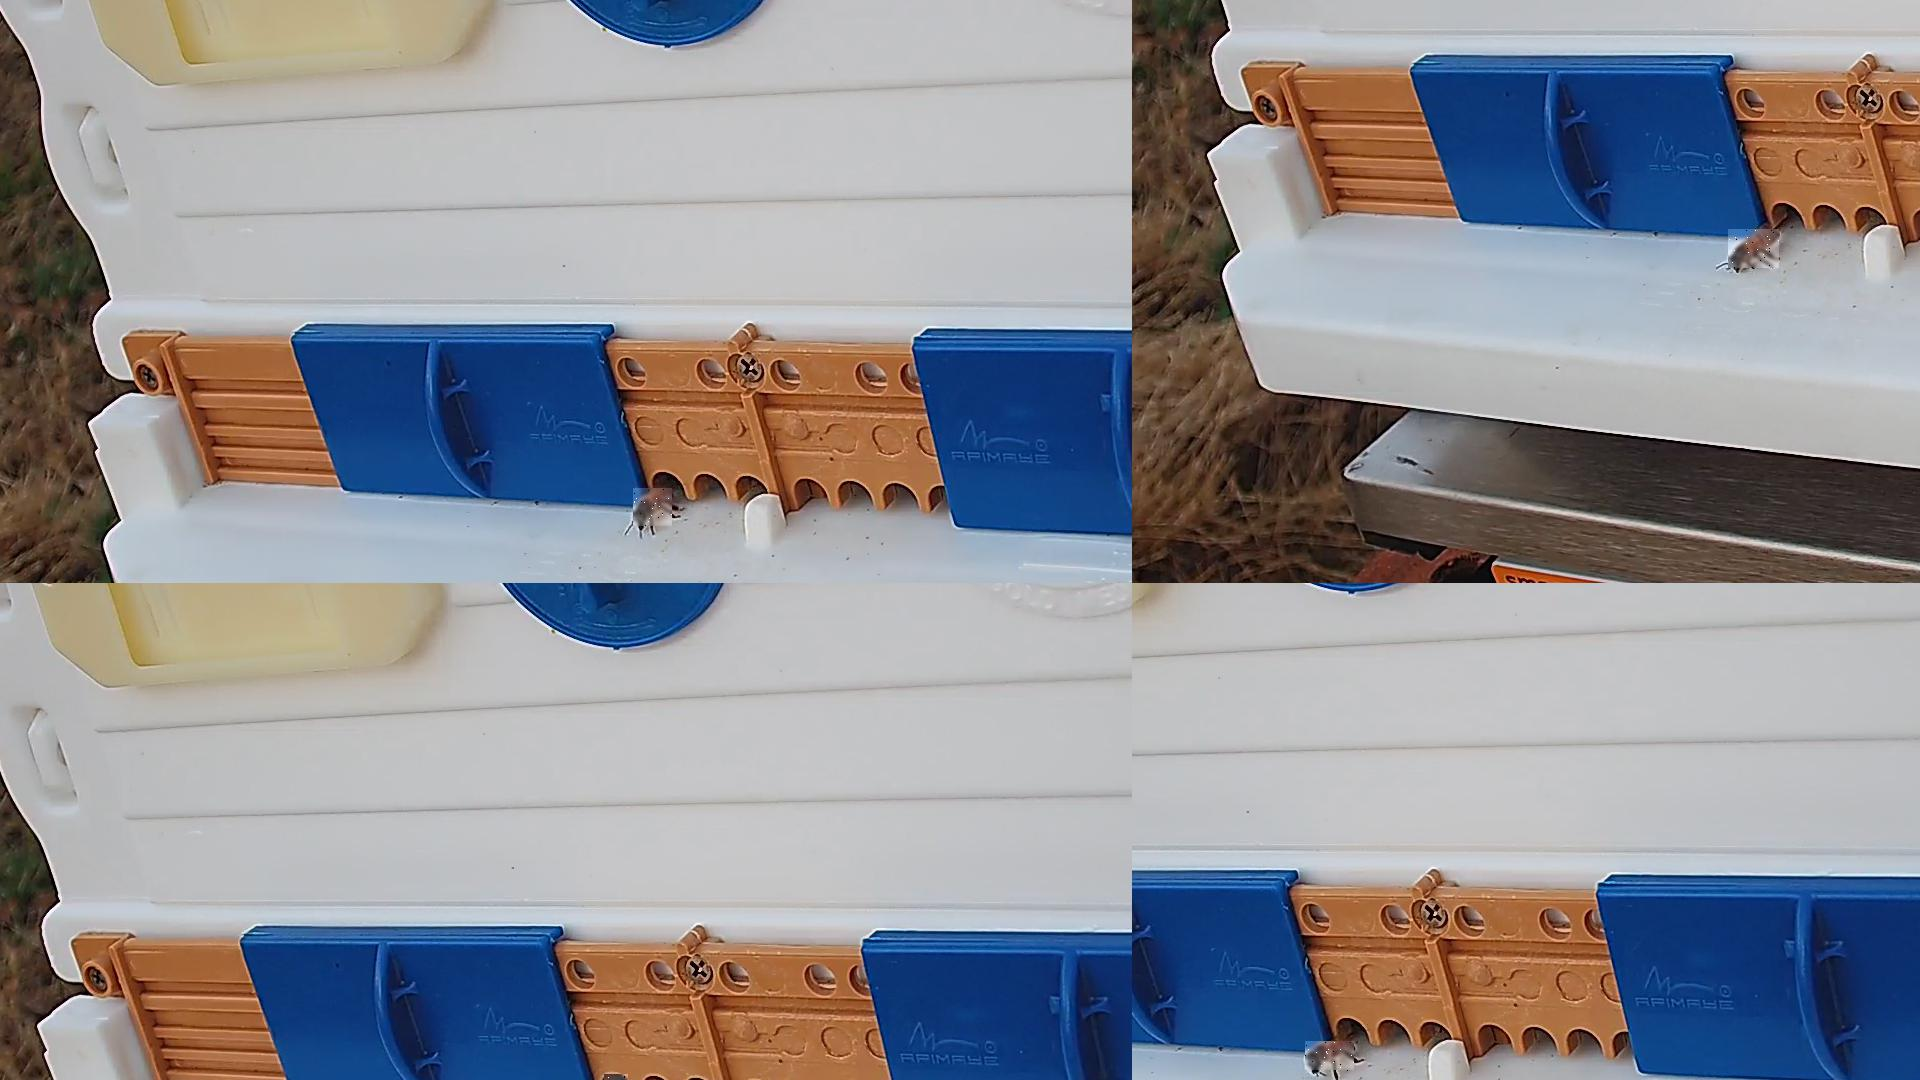bee: (1729, 229, 1780, 269), (633, 489, 673, 529), (1305, 1042, 1356, 1072)
